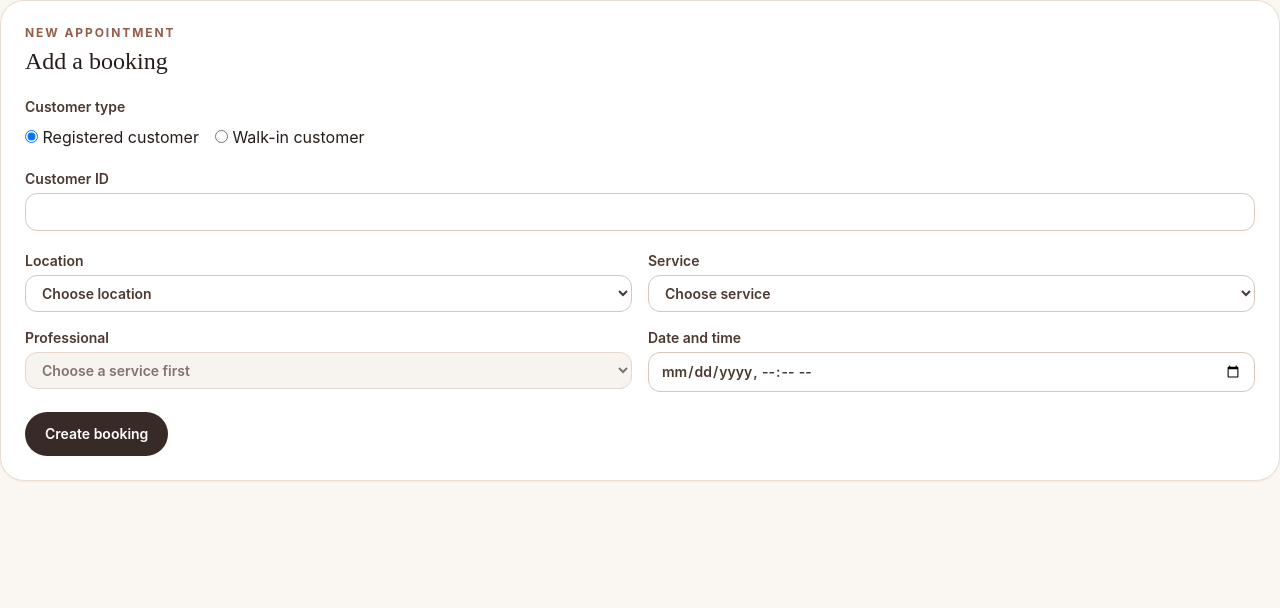
BookingEditor › confirms a successful booking and resets the appointment fields
The image size is (1280, 608).
Click the radio button labelled "Walk-in customer".
click(221, 136)  # box [215, 130, 228, 143]
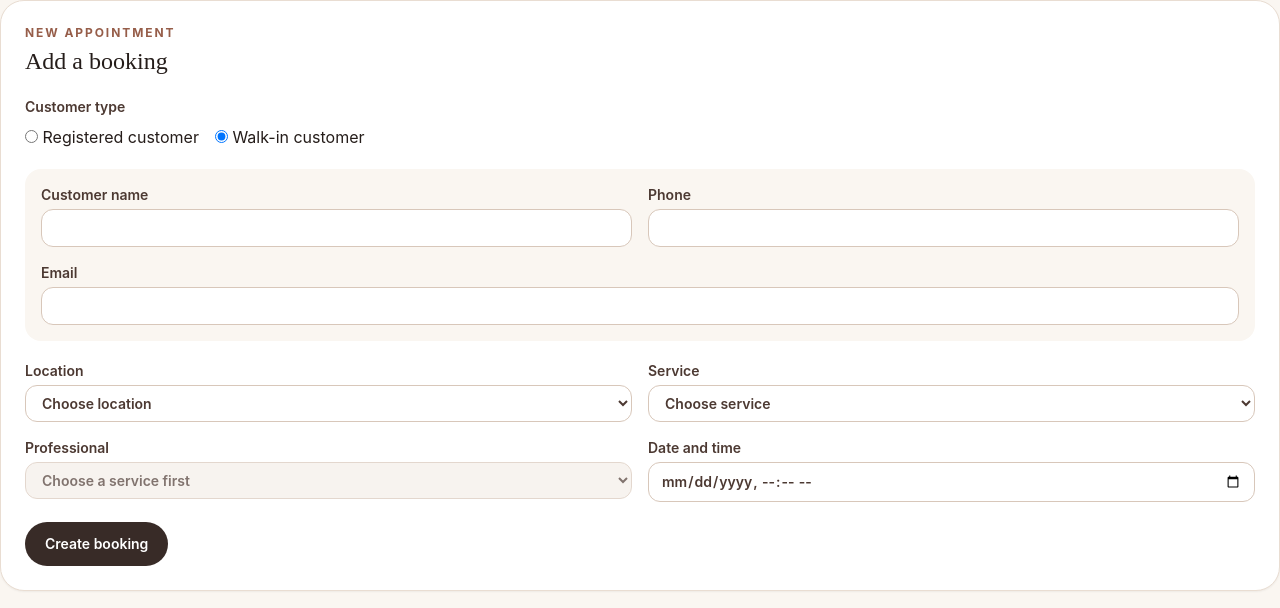
Type "Maya Joseph" into the field labelled "Customer name".
click(336, 228); type("Maya Joseph")  # box [41, 209, 632, 247]
Select "Castries" in the dropdown labelled "Location" at (328, 404), box [25, 385, 632, 422]
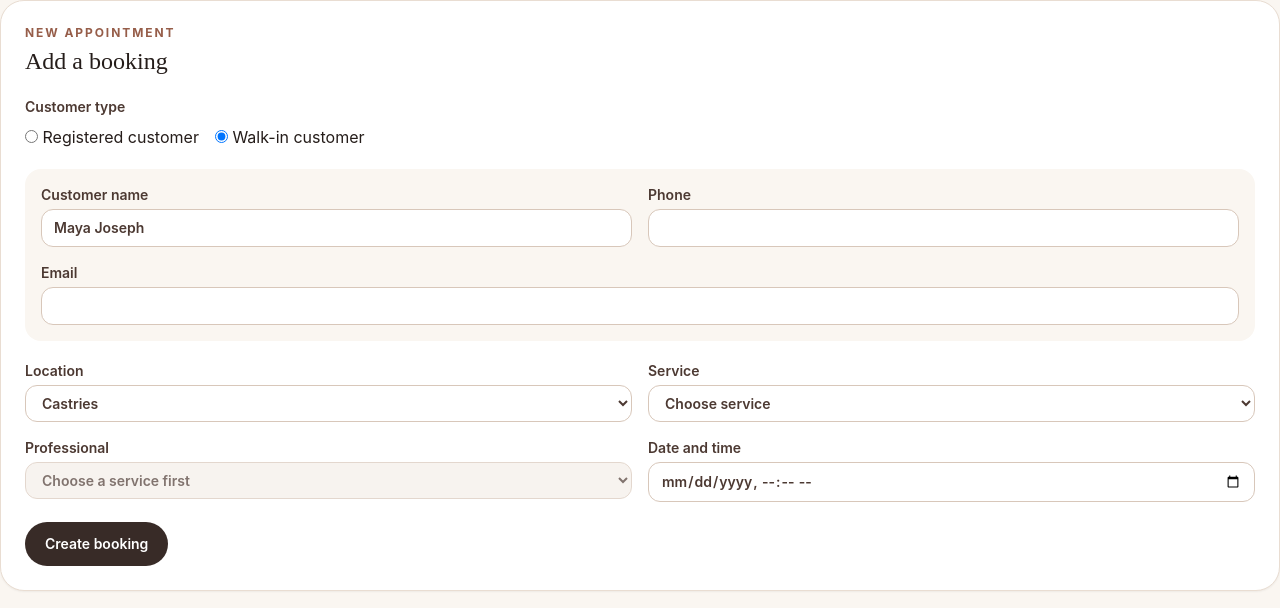
Select "Consultation" in the dropdown labelled "Service" at (952, 404), box [648, 385, 1255, 422]
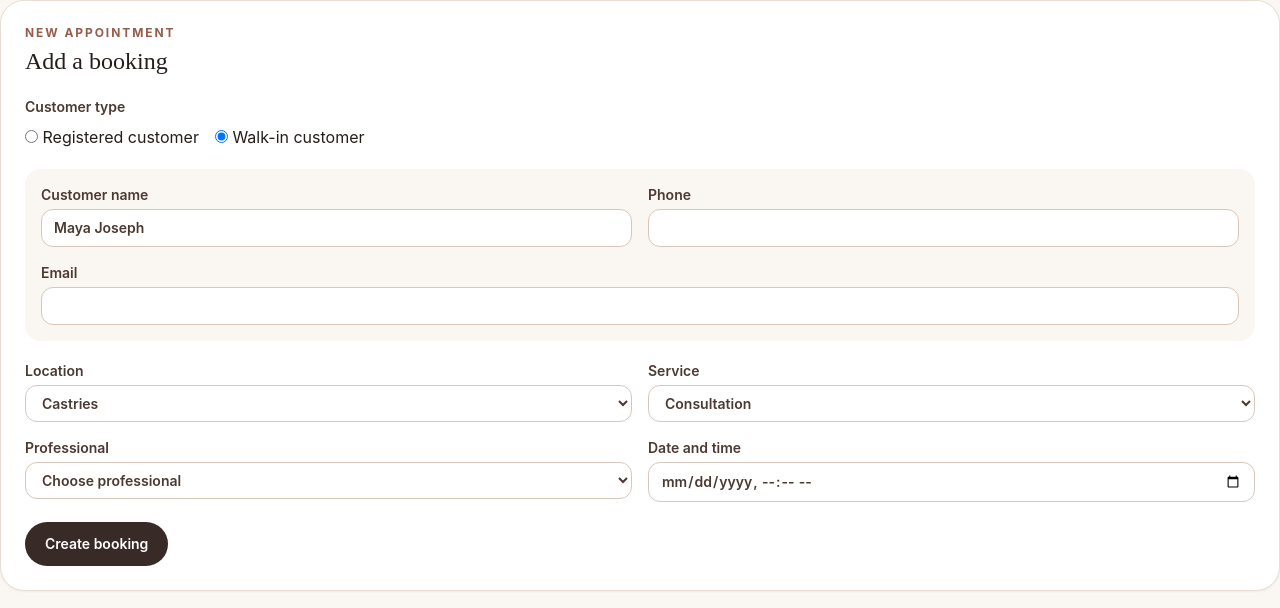
Select "Kai" in the dropdown labelled "Professional" at (328, 480), box [25, 462, 632, 499]
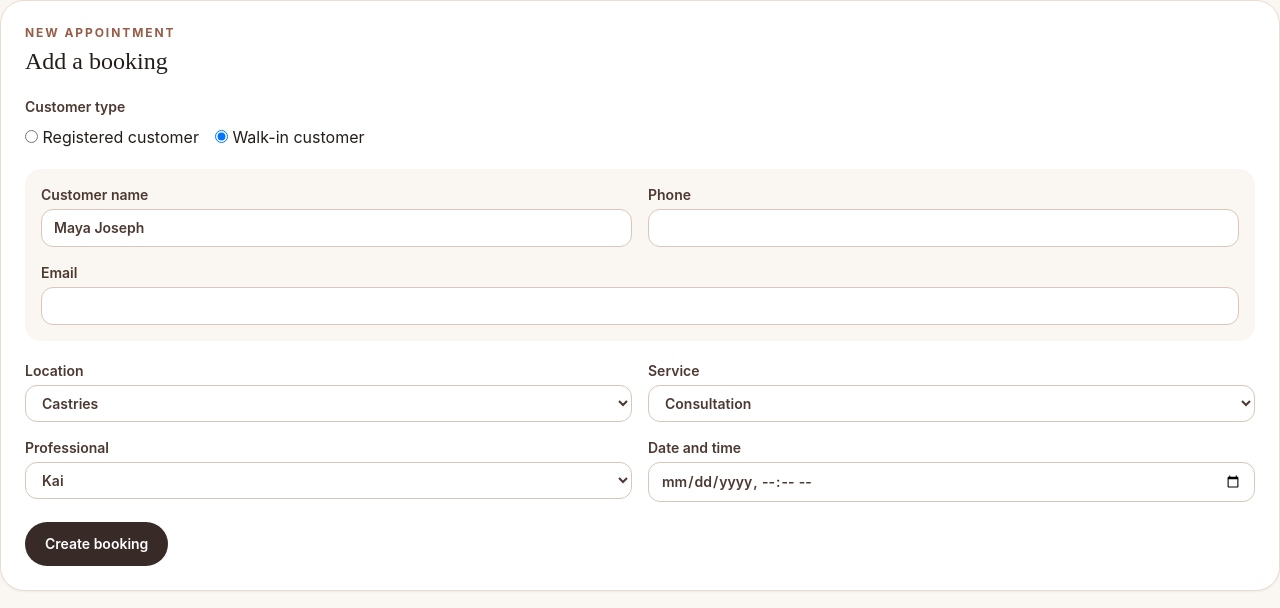
Type "2030-01-15T10:00" into the field labelled "Date and time".
click(952, 482); type("2030-01-15T10:00")  # box [648, 462, 1255, 502]
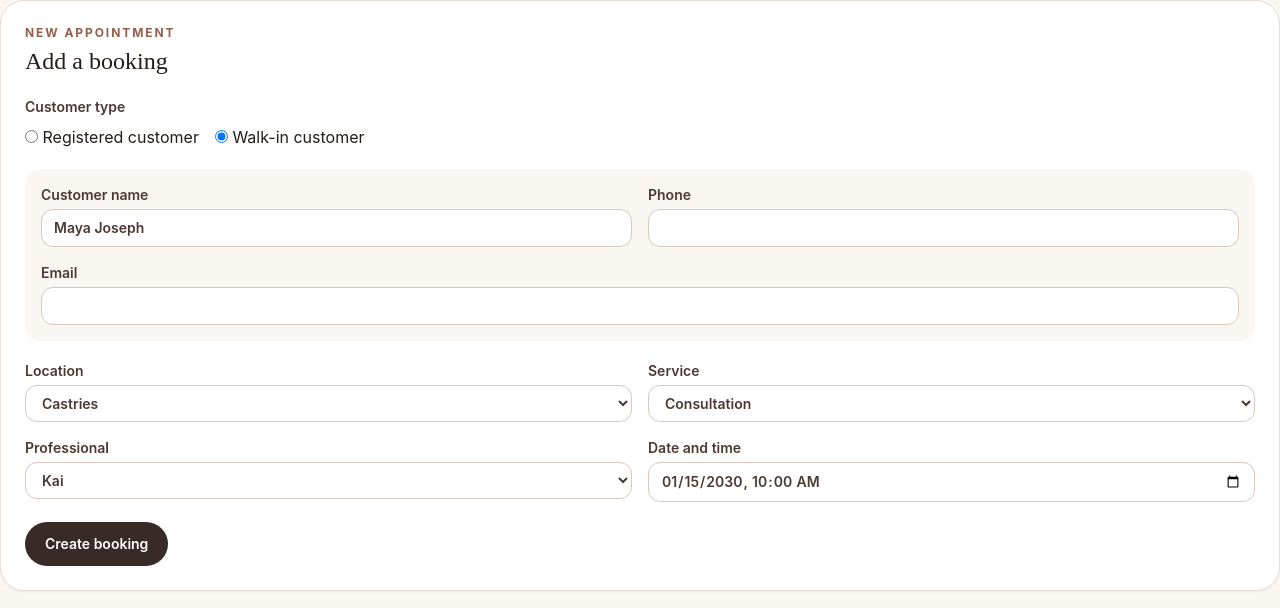
Click the button "Create booking".
click(97, 544)  # box [25, 522, 168, 566]
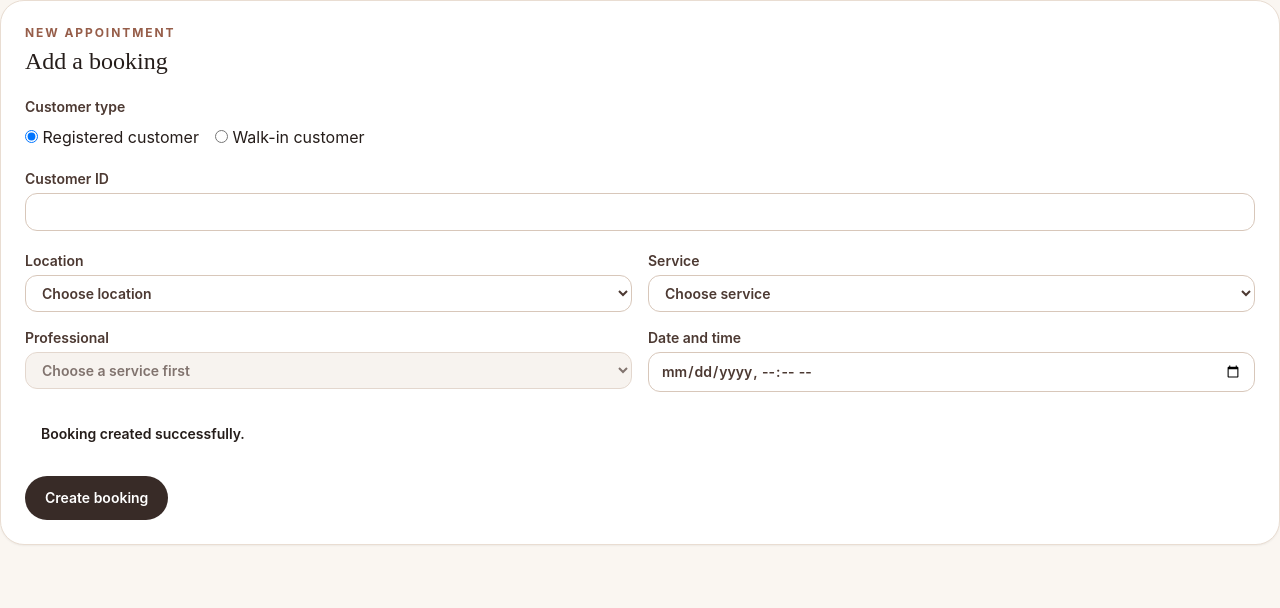
Result: the message shows "created successfully" at [41, 425, 245, 442]
